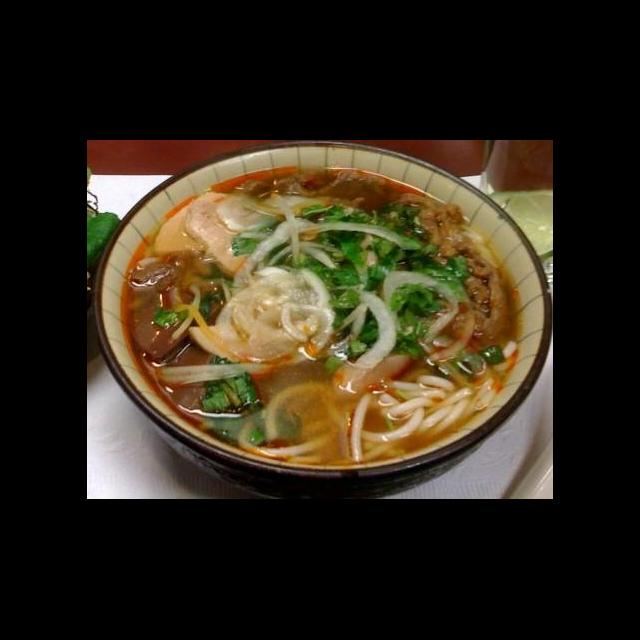bun: (343, 332, 526, 467), (236, 378, 343, 469)
bun bo: (118, 174, 513, 486)
thit bo: (395, 200, 516, 350)
